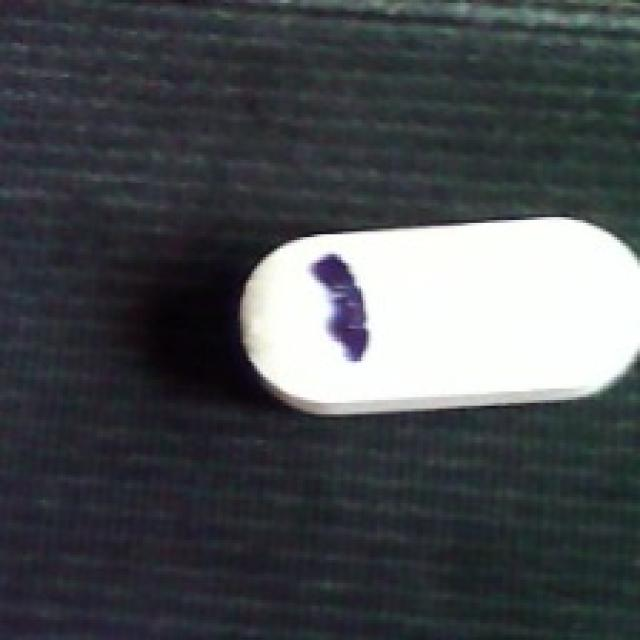defected: (226, 209, 637, 414)
